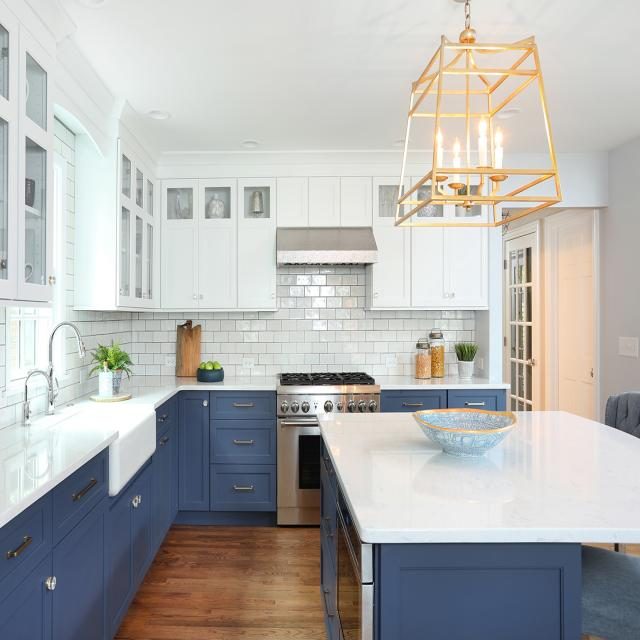Appliance_Oven: (277, 372, 381, 526)
Appliance_Sink: (22, 322, 156, 497)
Cabinet_Glass: (117, 154, 278, 308), (0, 2, 53, 304), (378, 177, 431, 226), (415, 205, 482, 218)
Cabinet_Shaker: (0, 391, 276, 640), (160, 177, 489, 310), (380, 387, 509, 412)
Countertop_Solid_Surface: (316, 409, 640, 545), (0, 429, 117, 528), (119, 375, 278, 408), (374, 374, 511, 388)
